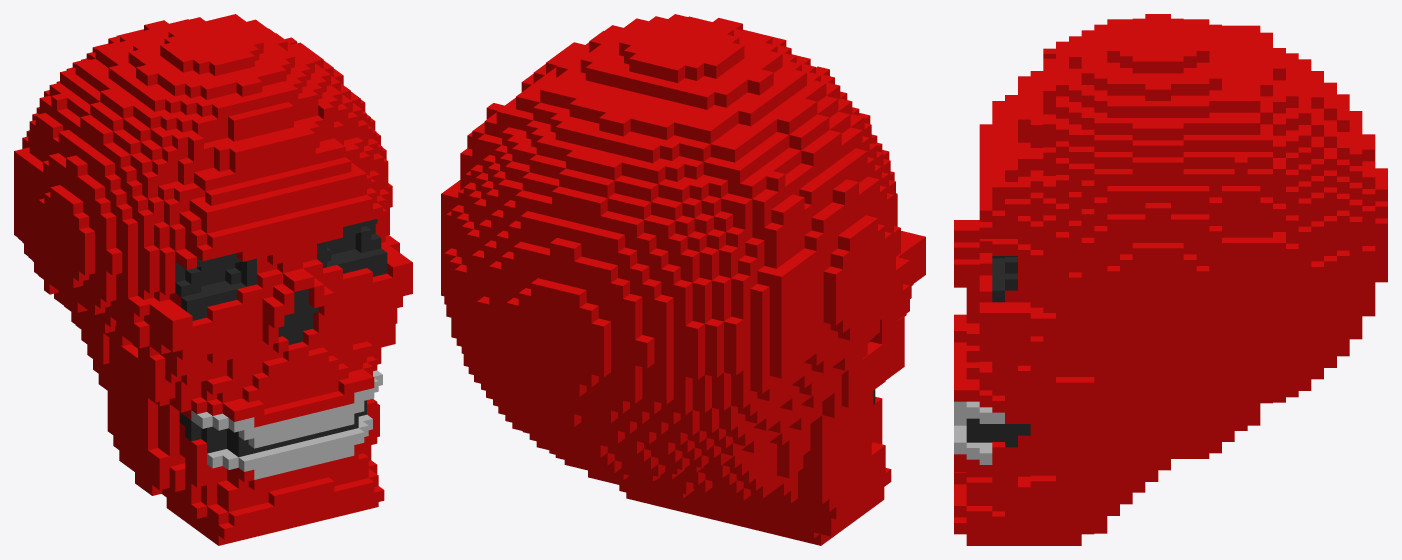
The model's file is CalaveraFeedback2-2.obj.
3 views of the same model, side by side, from view 1: azimuth 30°, elevation 25°; view 2: azimuth 150°, elevation 25°; view 3: azimuth 270°, elevation 25° (orthographic). The views are drawn at different scales.
Bounding box in the file's own units: 3 × 4 × 3.4.
Materials: 1 (1 with a texture image).
